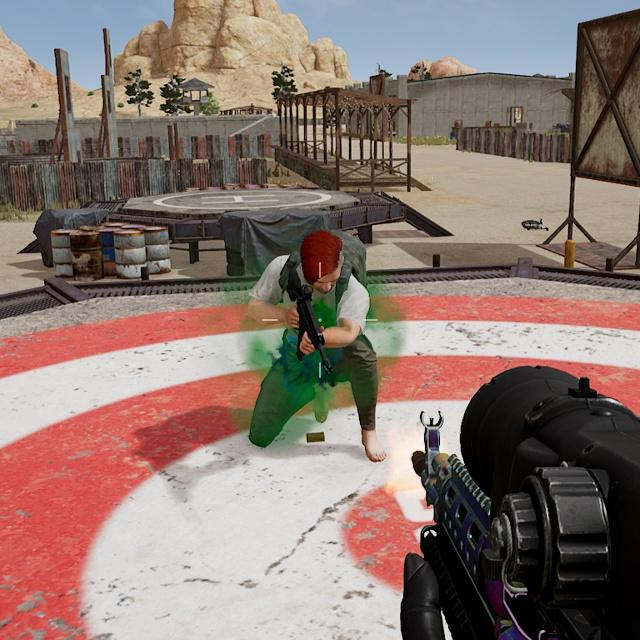head: (293, 228, 352, 299)
people: (243, 225, 397, 471)
